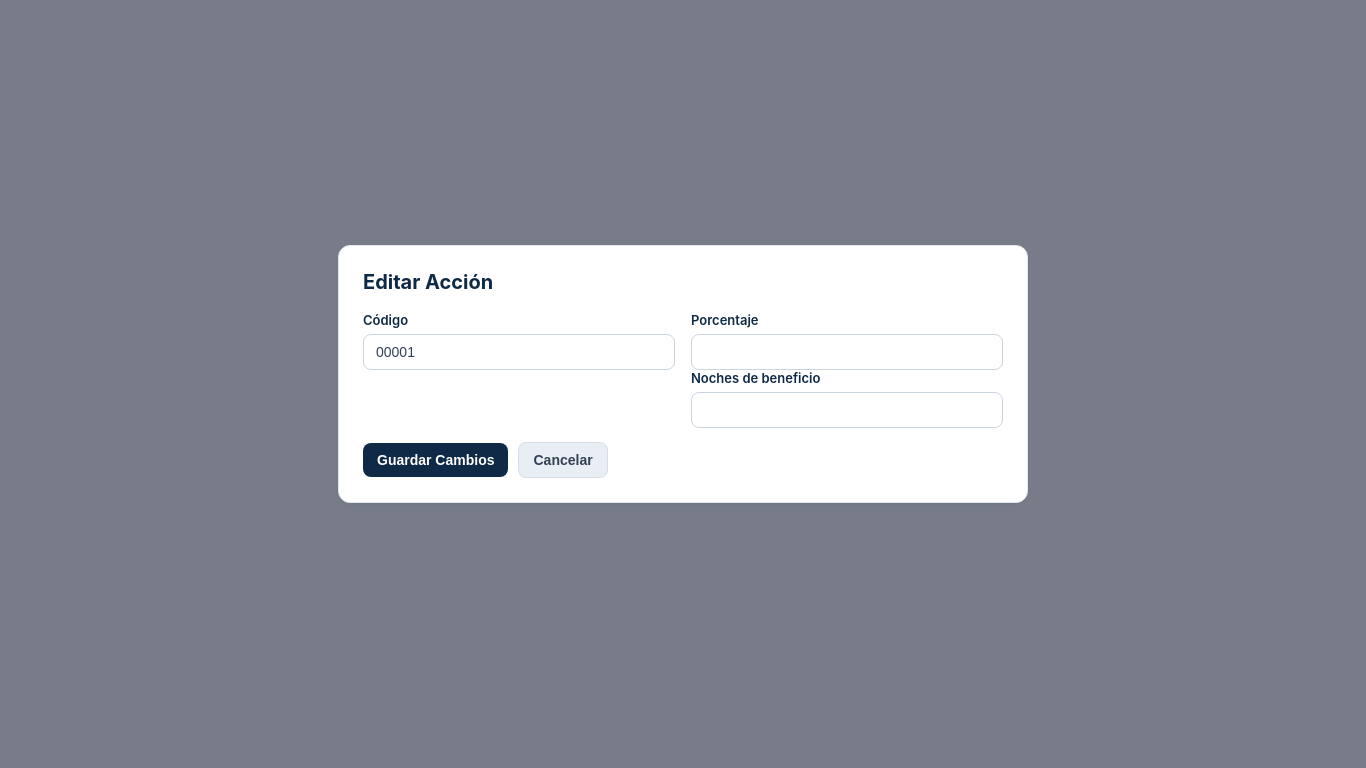
Test: AccionModal - Percentage › edits a legacy accion without percentage: empty field must be filled
Expected: the number field labelled "Porcentaje" is empty, [691,334,1003,370]
Click the button "Guardar Cambios" at (436, 460), box [363,443,508,477]
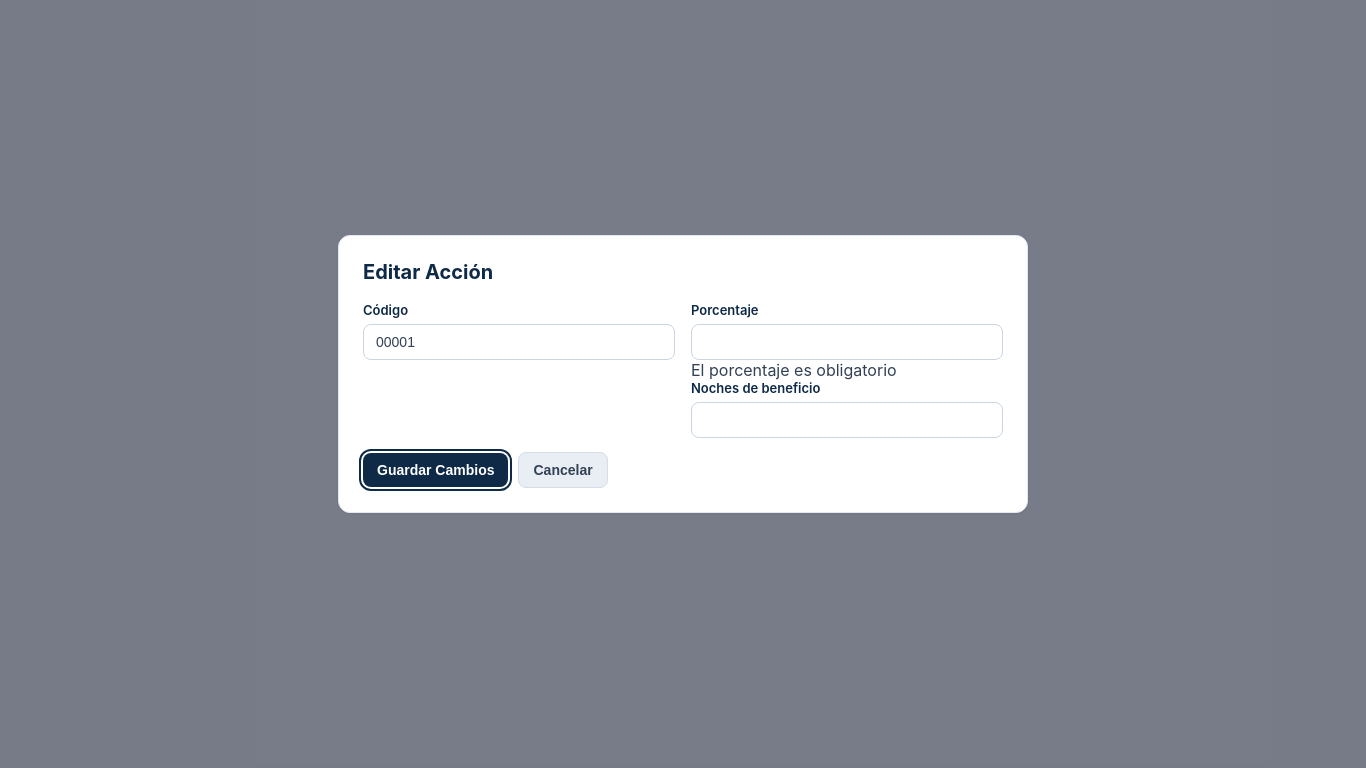
Expected: the text "El porcentaje es obligatorio" is shown, [691,360,897,380]
